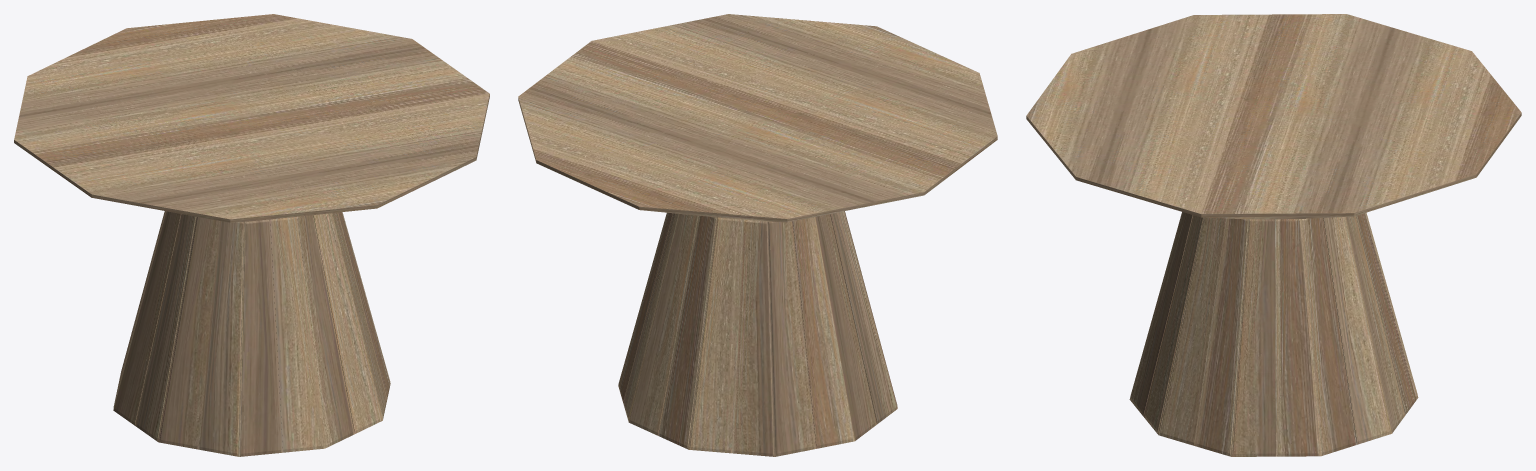
The model's file is abo-B075Z8629N.glb.
The picture shows the model from 3 angles, left to right: view 1: azimuth 30°, elevation 25°; view 2: azimuth 150°, elevation 25°; view 3: azimuth 270°, elevation 25°; orthographic projection.
Bounding box in the file's own units: 1.13 × 0.752 × 1.19.
Materials: 1 (1 with a texture image).
